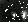person: (22, 8, 28, 21), (11, 10, 18, 21)
